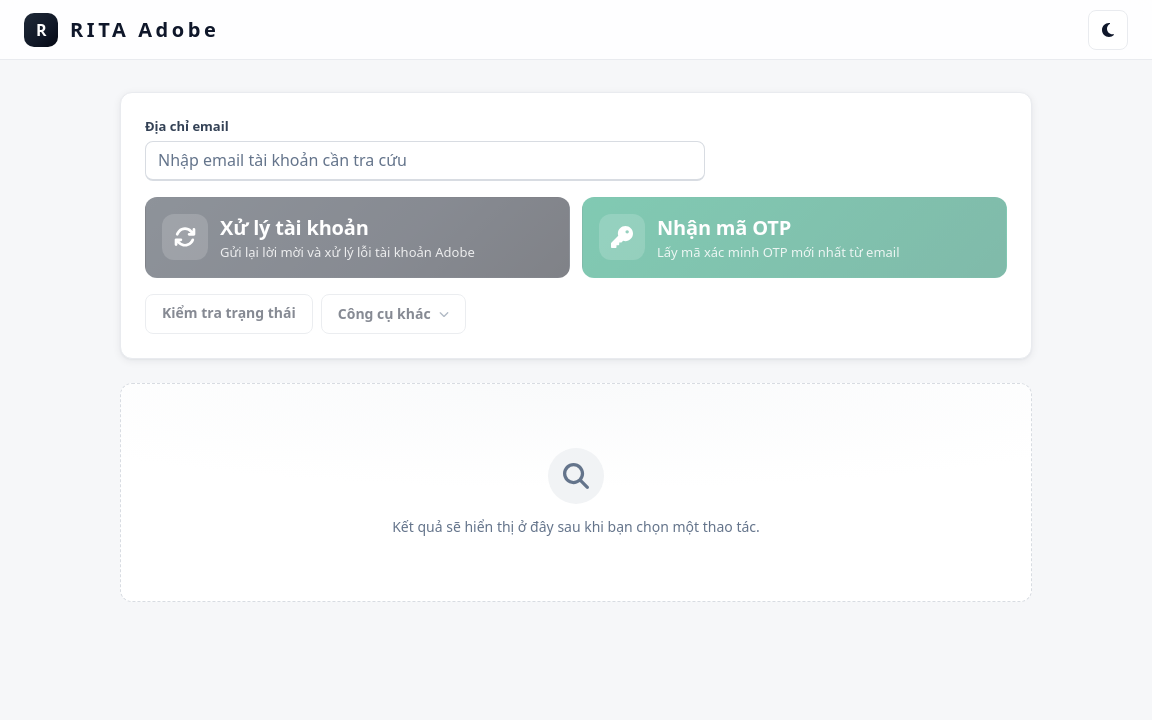
it: DashboardPage - result routing (Req 12.3, 12.4) › routes an API error into the corresponding panel
Type "user@example.com" into the field named "Email address".
click(425, 160); type("user@example.com")  # box [145,140,705,180]
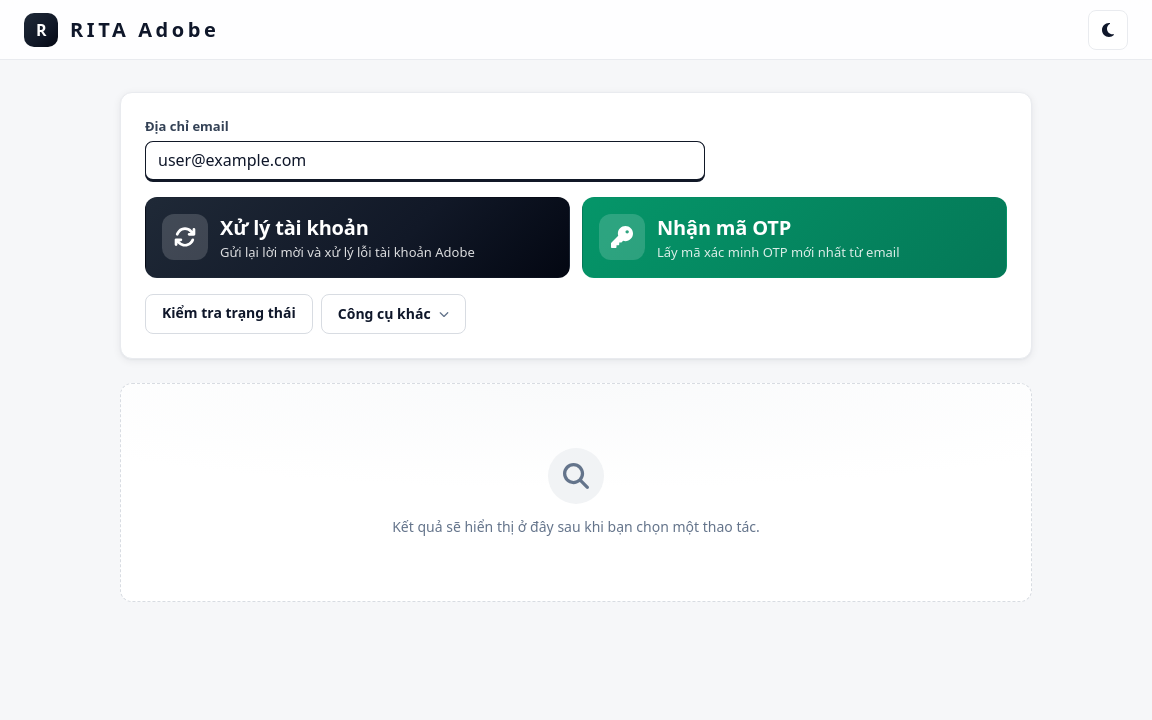
Expected: the button "Kiểm tra trạng thái" is enabled
Click the button "Kiểm tra trạng thái".
click(229, 314)  # box [145,294,313,334]
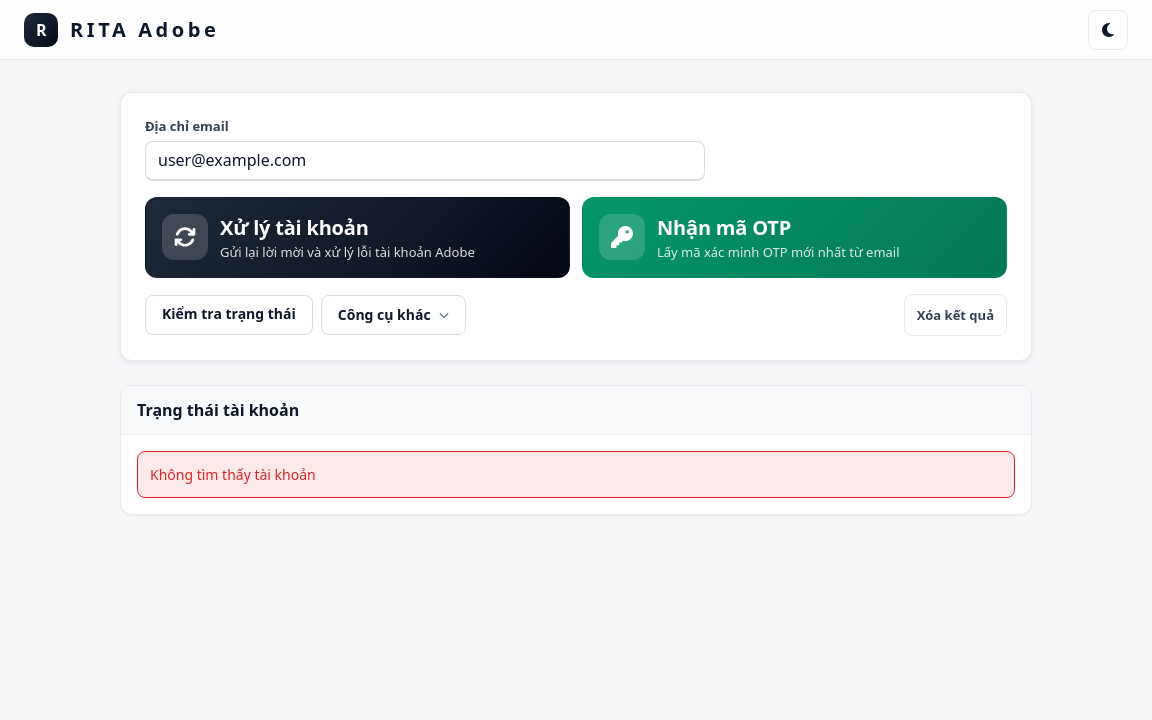
Expected: the message reads "Không tìm thấy tài khoản", [150,465,316,484]
